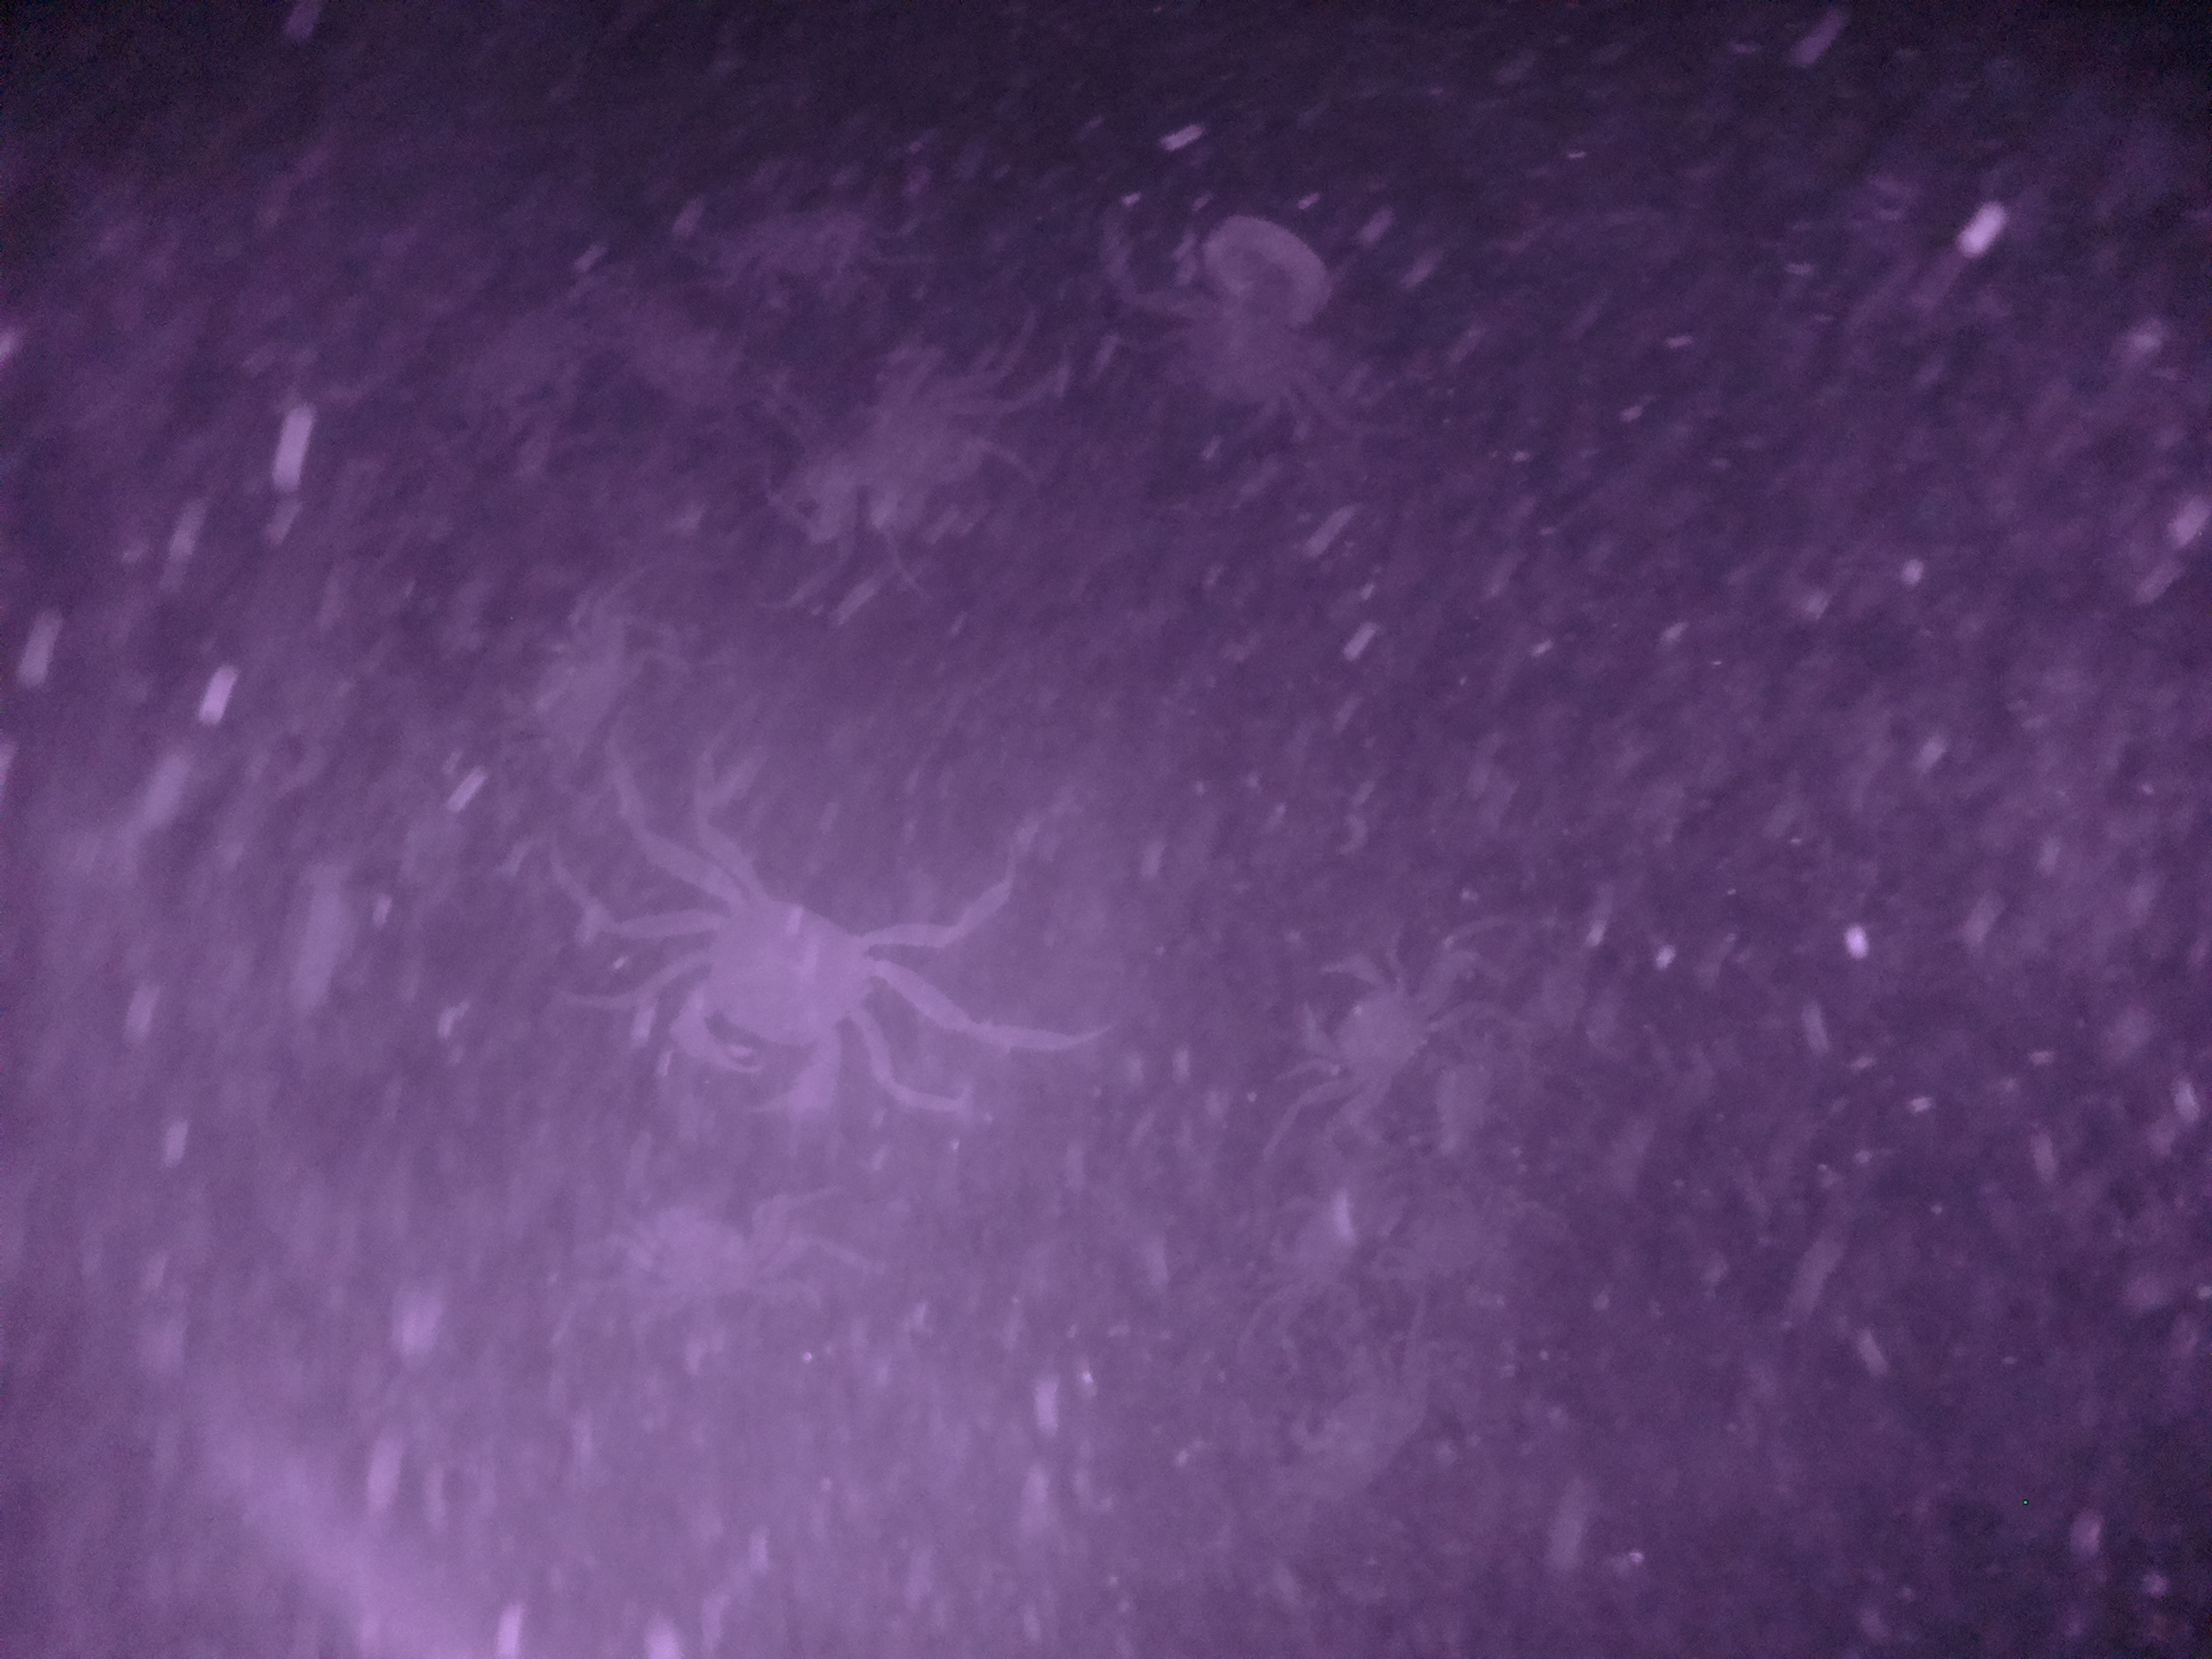Crab: (648, 857, 892, 1155), (1268, 932, 1442, 1119)
